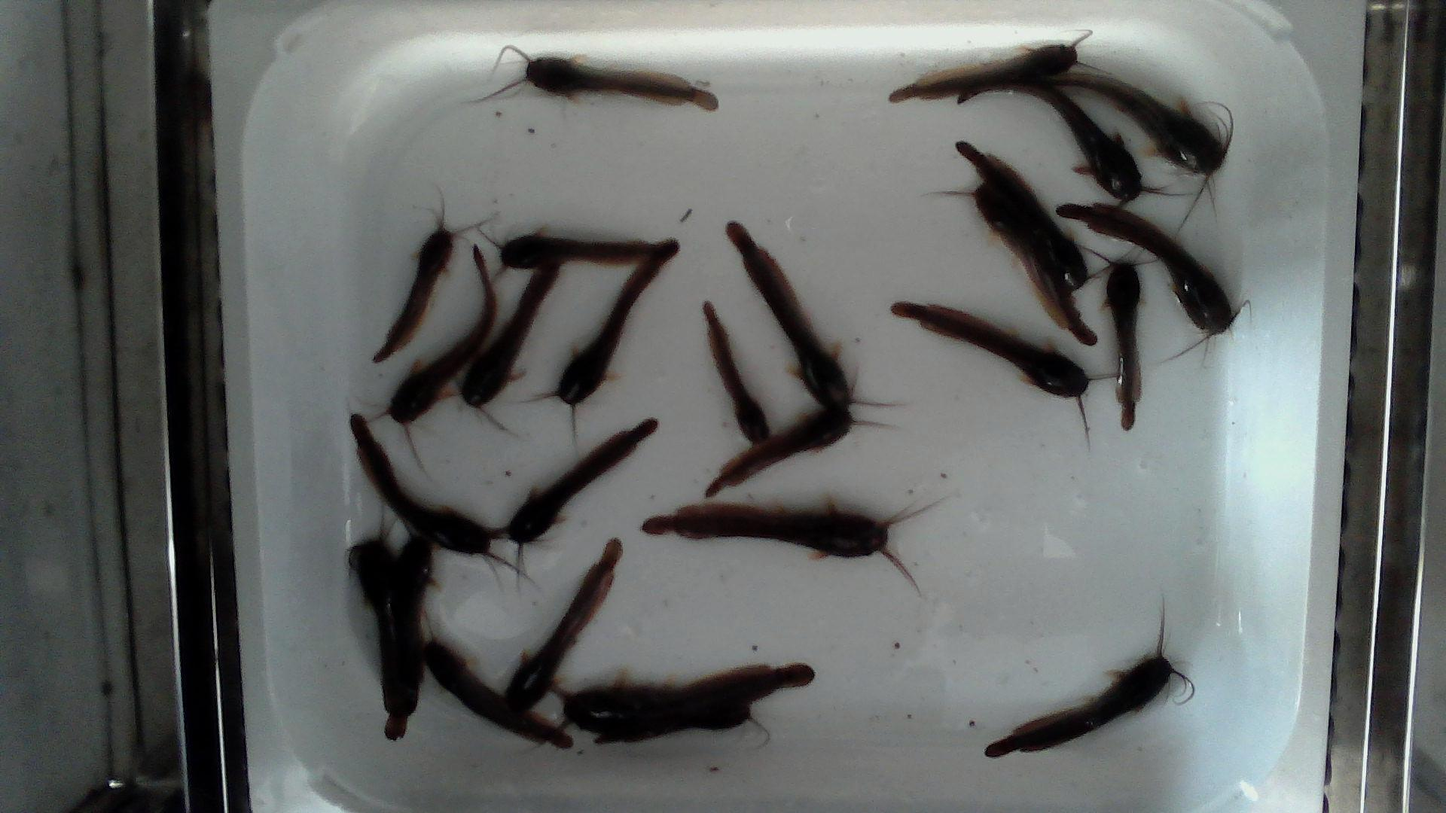lele: (724, 219, 896, 412), (985, 604, 1194, 757), (1031, 73, 1234, 230), (527, 240, 679, 447), (892, 302, 1100, 443), (926, 182, 1098, 346), (956, 79, 1170, 207), (641, 500, 935, 592), (385, 245, 498, 470), (1058, 204, 1234, 334), (349, 414, 501, 560), (505, 419, 657, 559), (956, 142, 1088, 293), (505, 540, 621, 711), (550, 664, 817, 734), (460, 263, 560, 438), (705, 406, 885, 497), (890, 31, 1112, 104), (424, 640, 571, 748), (477, 45, 718, 110), (347, 512, 408, 745), (373, 214, 468, 362), (480, 230, 676, 282), (703, 303, 770, 443), (393, 526, 442, 717), (594, 705, 771, 744), (1105, 262, 1140, 430)
